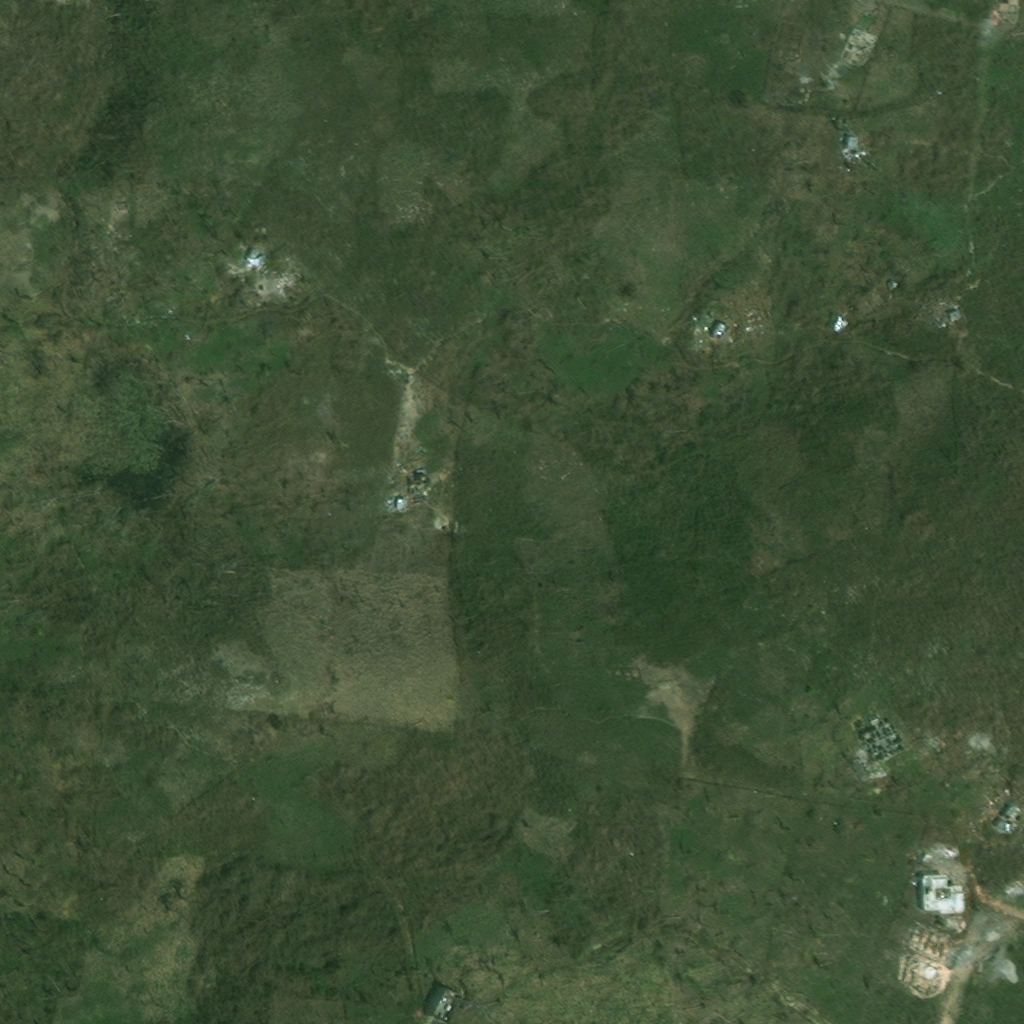destroyed: (276, 275, 298, 297), (467, 518, 484, 535), (867, 3, 885, 18), (422, 498, 434, 512), (412, 492, 421, 503)
major_damage: (986, 802, 1018, 834), (430, 472, 457, 498), (718, 321, 736, 340), (413, 504, 425, 517)
minor_damage: (437, 984, 473, 1023)
unclassified: (300, 828, 314, 840)
